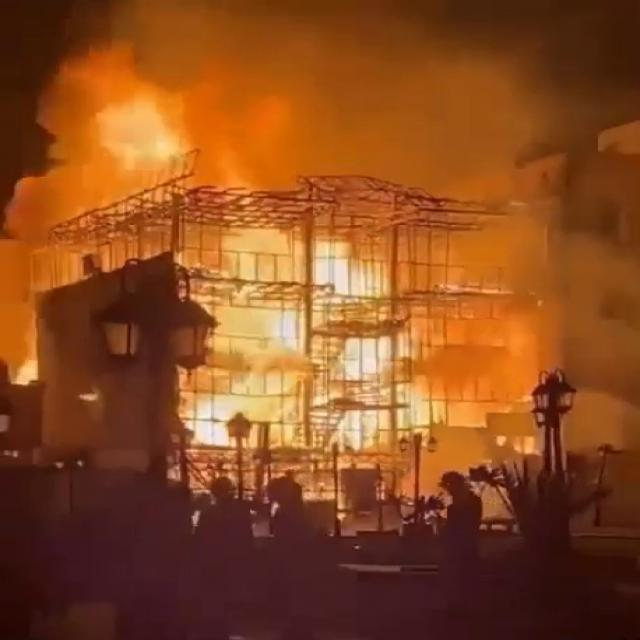Fire: (314, 244, 425, 482), (194, 290, 309, 457), (221, 229, 300, 285), (17, 362, 36, 381)
Smoke: (4, 49, 172, 243), (274, 56, 521, 165)
